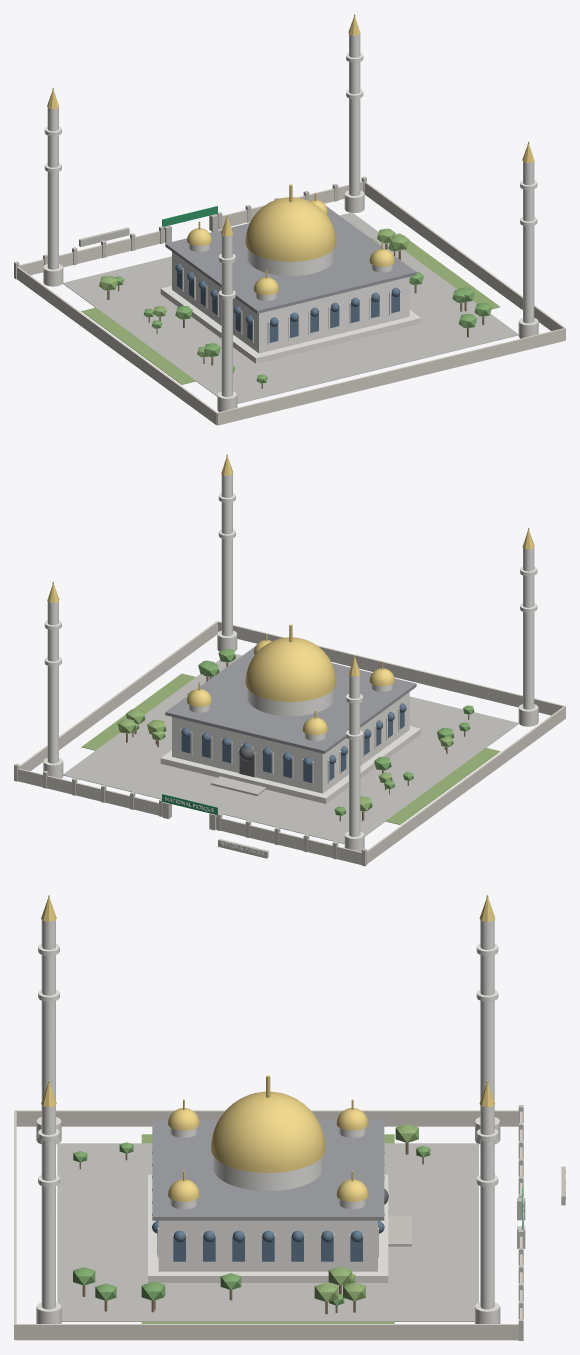
The model's file is national_mosque.glb.
3 views of the same model, one above another, from view 1: azimuth 30°, elevation 25°; view 2: azimuth 150°, elevation 25°; view 3: azimuth 270°, elevation 25° (orthographic). The views are drawn at different scales.
Visible parts, largest first — view 1: BLD_national_mosque; view 2: BLD_national_mosque; view 3: BLD_national_mosque.
Boxes of the visible parts, box(x1,y1,x2,y2) form: BLD_national_mosque: box(14, 14, 565, 425); BLD_national_mosque: box(14, 454, 565, 866); BLD_national_mosque: box(14, 895, 565, 1340).
Size of the model in its own units: 121 by 64.1 by 131.
